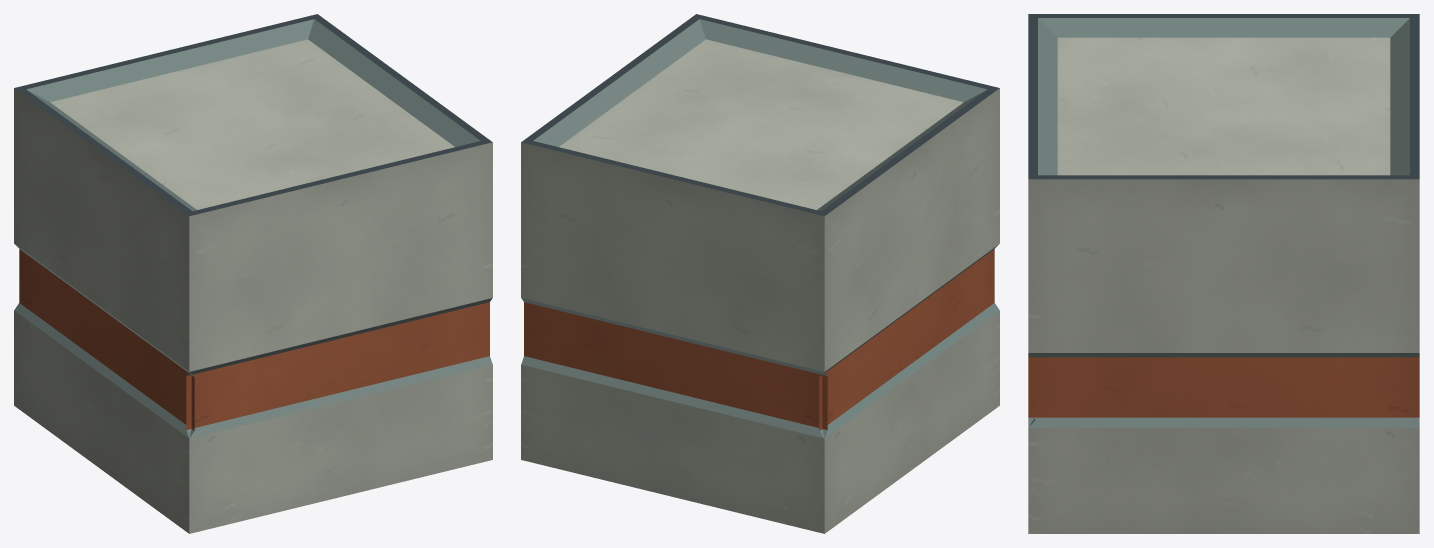
The model's file is hull-stripe-block.glb.
3 renders of one model, left to right at view 1: azimuth 30°, elevation 25°; view 2: azimuth 150°, elevation 25°; view 3: azimuth 270°, elevation 25°, orthographic. The views are drawn at different scales.
Parts seen in each view (by area): view 1: hull-stripe-block; view 2: hull-stripe-block; view 3: hull-stripe-block.
Boxes of the visible parts, left/top/right/bottom form: hull-stripe-block: left=14, top=14, right=492, bottom=533; hull-stripe-block: left=521, top=14, right=999, bottom=533; hull-stripe-block: left=1028, top=14, right=1419, bottom=533.
Size of the model in its own units: 1 by 1 by 1.
4 materials, 2 textured.
